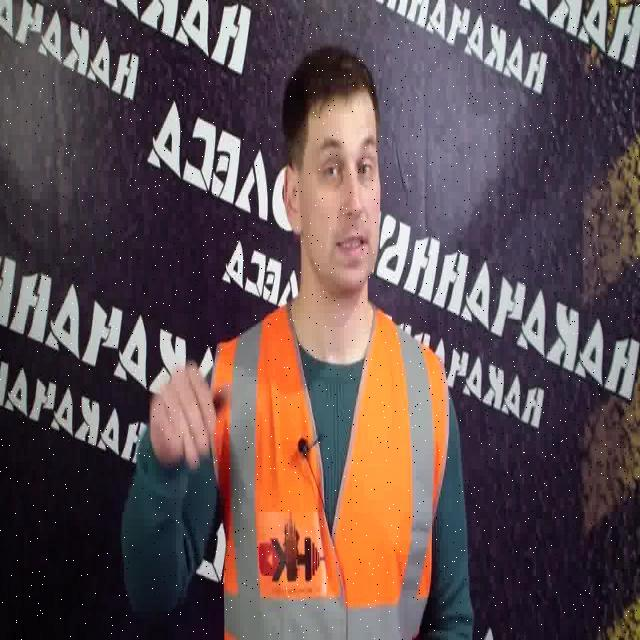Person: (202, 70, 469, 640)
Vest: (226, 320, 456, 620)
